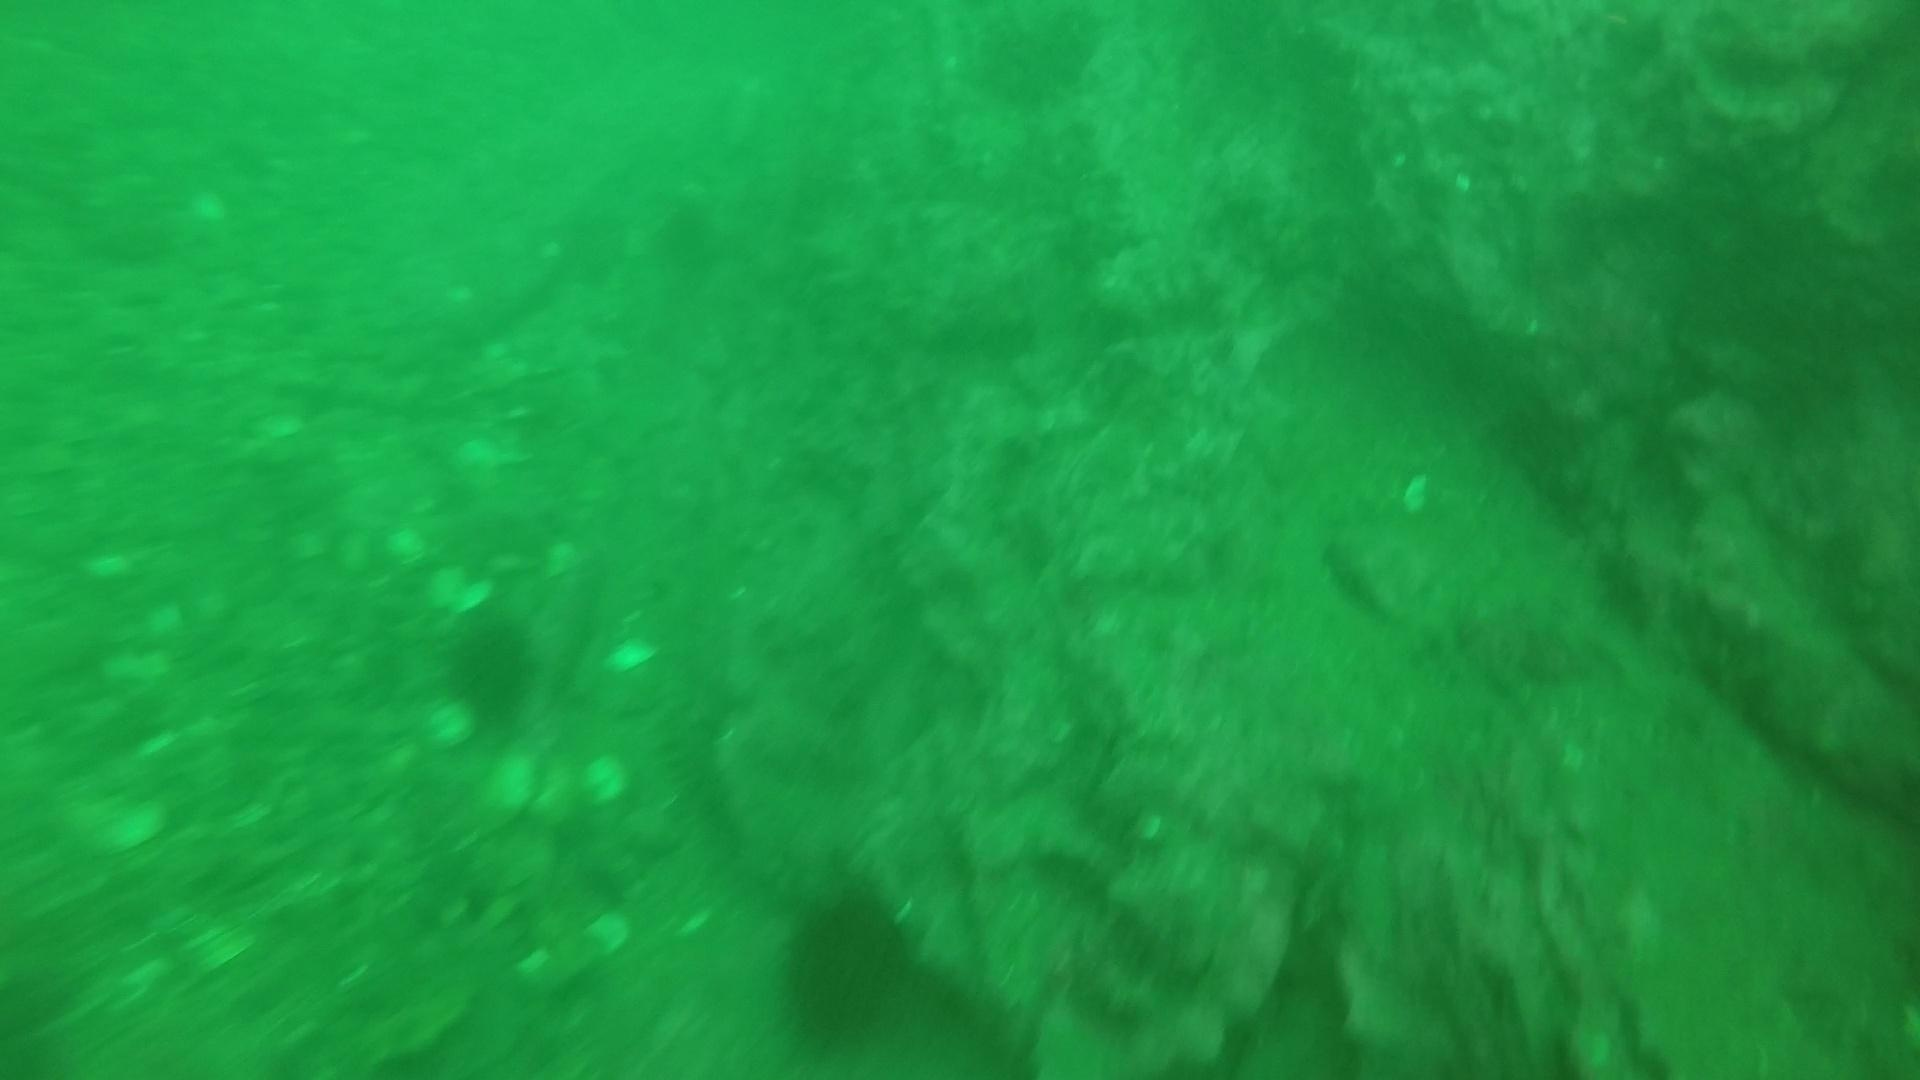echinus: (767, 880, 924, 1052), (436, 604, 542, 727)
